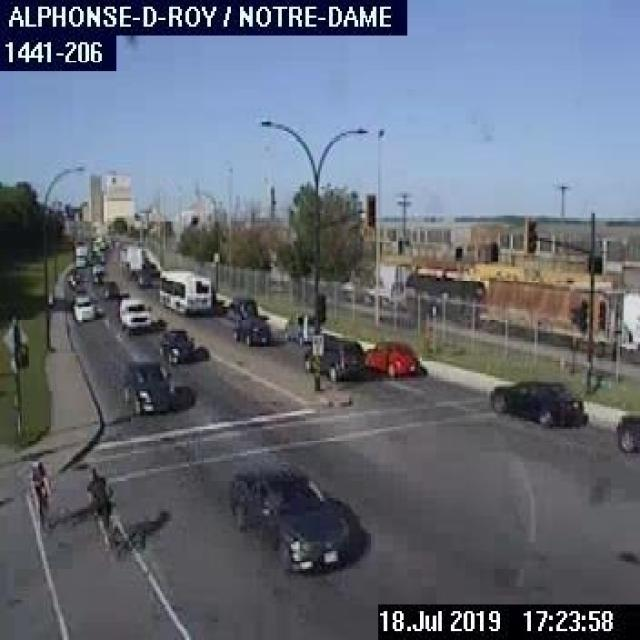bus: (157, 268, 210, 312)
cyclist: (28, 458, 54, 530)
pedestrian: (84, 466, 115, 548)
vehicle: (225, 463, 349, 573), (488, 377, 586, 427), (116, 352, 177, 416), (303, 336, 365, 380), (362, 335, 420, 377), (154, 324, 193, 366), (280, 307, 319, 343), (230, 313, 272, 344), (117, 296, 152, 330), (615, 411, 638, 451), (224, 293, 258, 319), (70, 294, 95, 321), (98, 277, 119, 300), (72, 241, 86, 267), (91, 270, 102, 282), (91, 262, 102, 274)
